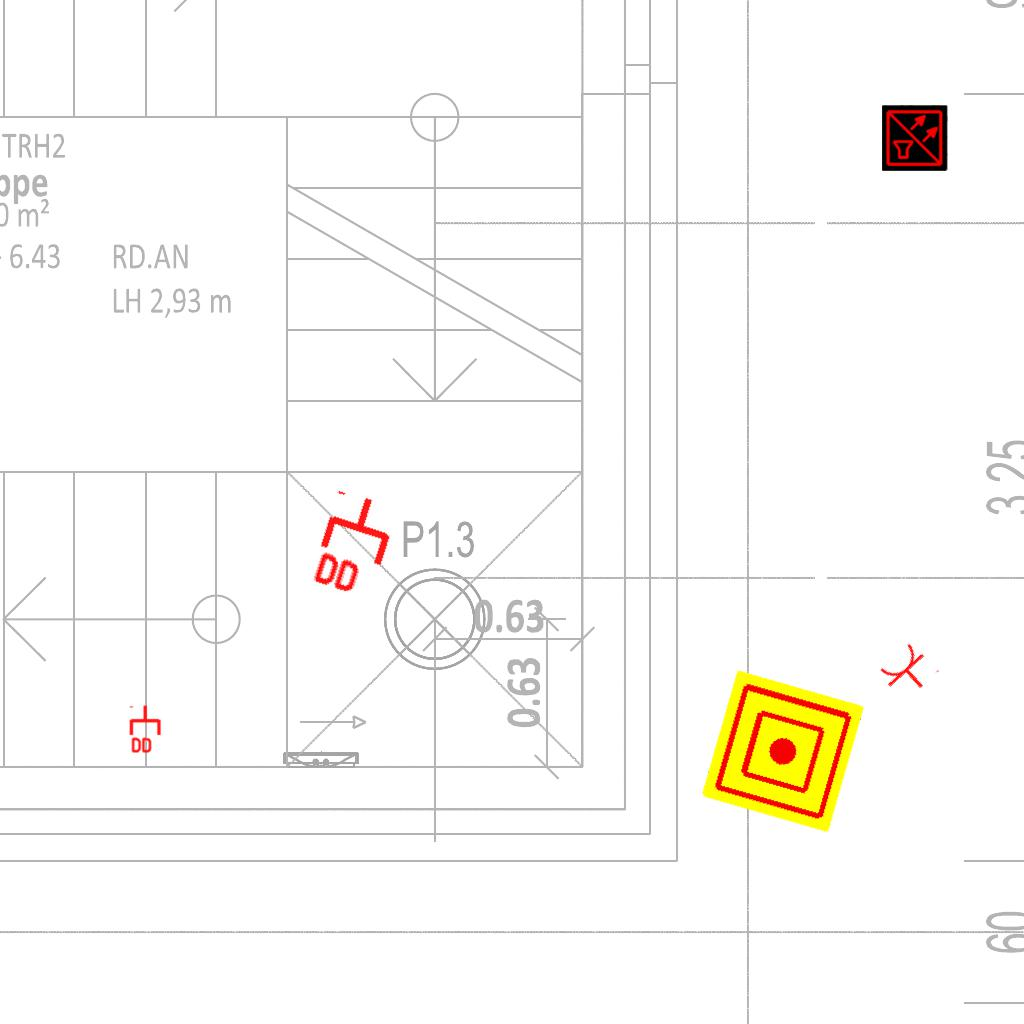Datenanschluss_zweifach: (306, 485, 405, 606), (129, 704, 163, 755)
NAM-Nichtautomatischer_Melder: (701, 669, 865, 833)
OKW_Multisensormelder_(Kombination_optischer_Rauch-Kahlenmonoxid_Waerme-Melder): (882, 105, 948, 171)
Schukosteckdose_einfach: (875, 638, 942, 704)
